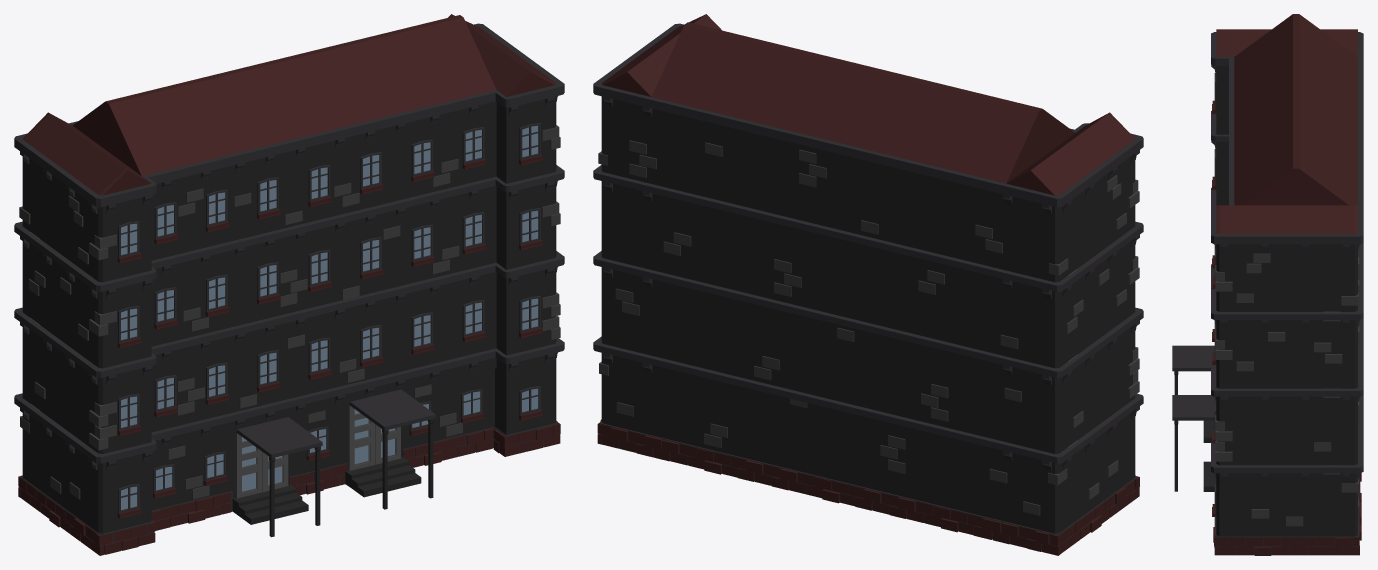
File: quat_4story_wide_2doors_roof.glb
3 views of the same model, side by side, from view 1: azimuth 30°, elevation 25°; view 2: azimuth 150°, elevation 25°; view 3: azimuth 270°, elevation 25° (orthographic). The views are drawn at different scales.
Parts seen in each view (by area): view 1: 4Story_Wide_2Doors_Roof_Cube.157; view 2: 4Story_Wide_2Doors_Roof_Cube.157; view 3: 4Story_Wide_2Doors_Roof_Cube.157.
Boxes of the visible parts, x1,y1,x2,y2 form: 4Story_Wide_2Doors_Roof_Cube.157: (14,14,564,555); 4Story_Wide_2Doors_Roof_Cube.157: (593,14,1143,555); 4Story_Wide_2Doors_Roof_Cube.157: (1172,14,1363,555).
Bounding box in the file's own units: 6.83 × 5.68 × 2.7.
1 material, 1 textured.
